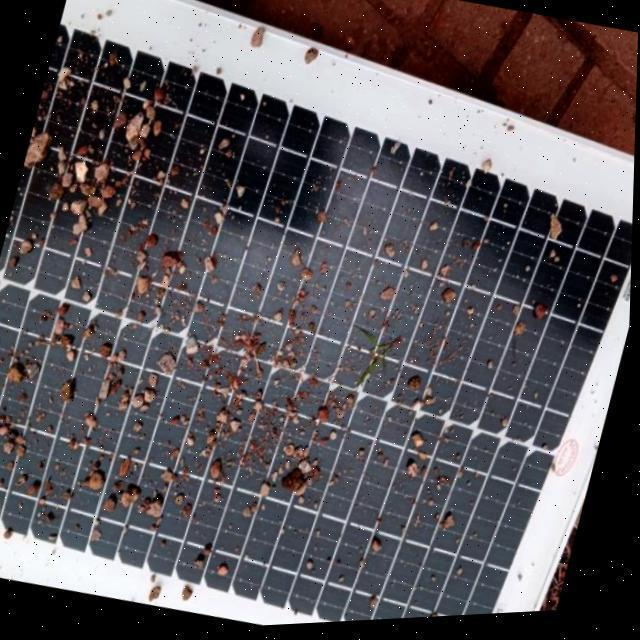Surface Contaminant: (0, 75, 599, 626)
